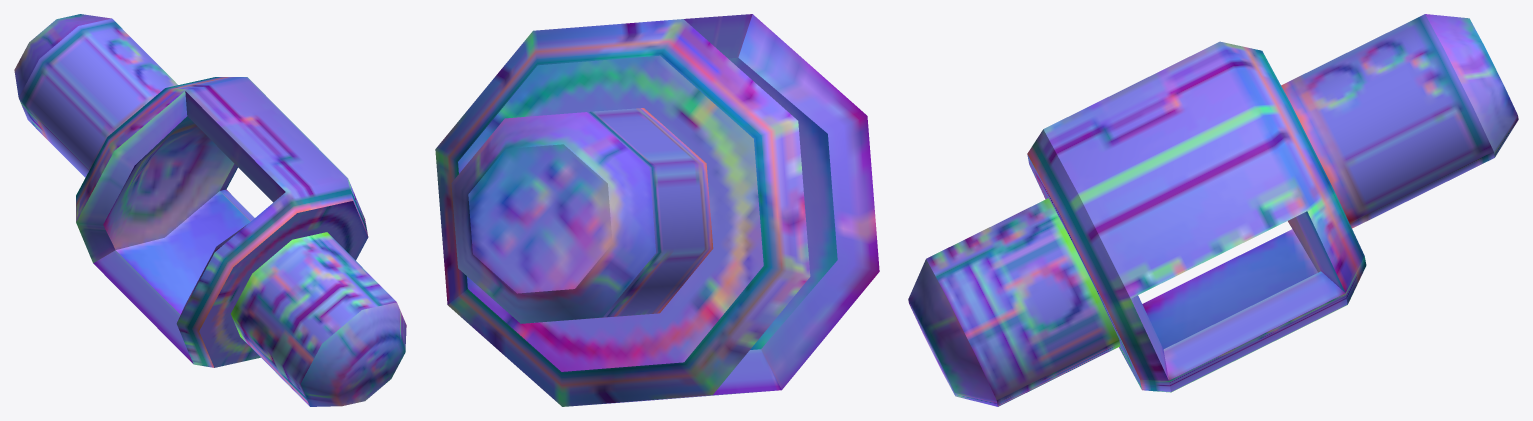
Rendered from shipScrapPart_06.glb.
3 renders of one model, left to right at view 1: azimuth 30°, elevation 25°; view 2: azimuth 150°, elevation 25°; view 3: azimuth 270°, elevation 25°, orthographic. The views are drawn at different scales.
Visible parts, largest first — view 1: shipScrapPart_06; view 2: shipScrapPart_06; view 3: shipScrapPart_06.
Part boxes in pixels (left/top/right/bottom): shipScrapPart_06: left=14, top=14, right=406, bottom=406; shipScrapPart_06: left=435, top=14, right=879, bottom=406; shipScrapPart_06: left=908, top=14, right=1518, bottom=406.
Size of the model in its own units: 0.8261 by 0.9013 by 1.49.
1 material, 1 textured.
